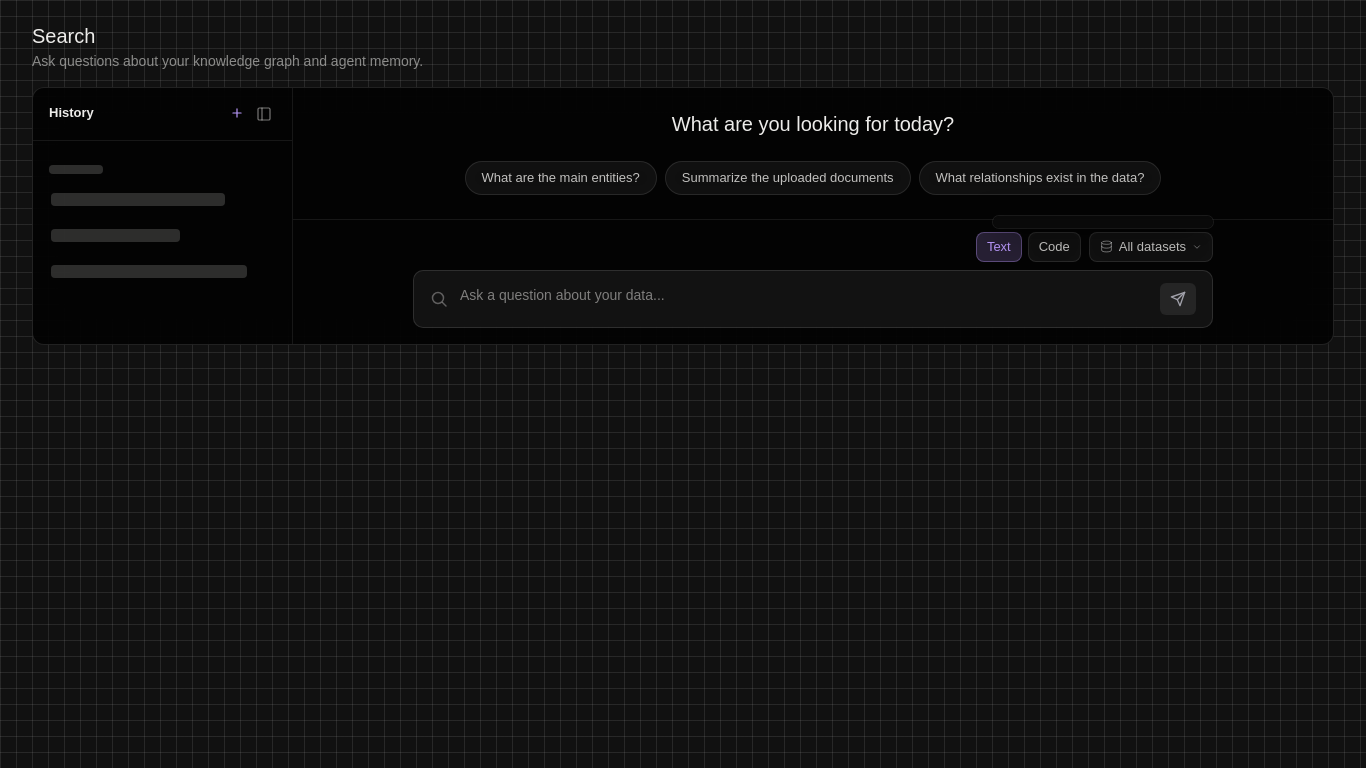
Test: SearchPage › keeps a follow-up sent under a remembered session before its history has loaded
Type "and how many edges?" into the text box with placeholder "Ask a question about your data..." at x=804, y=299, box [460,287,1148,311]
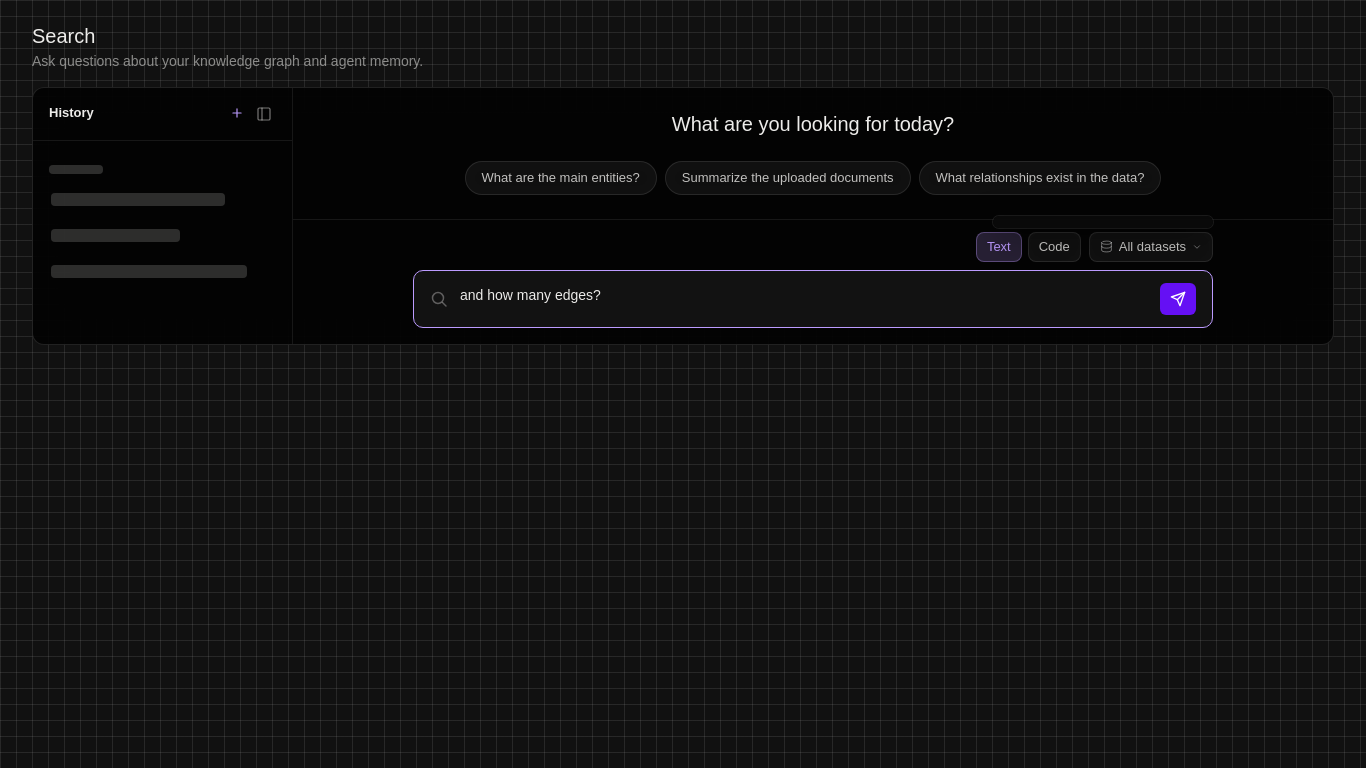
Click the 7th button at x=1178, y=299, box [1160,283,1196,315]
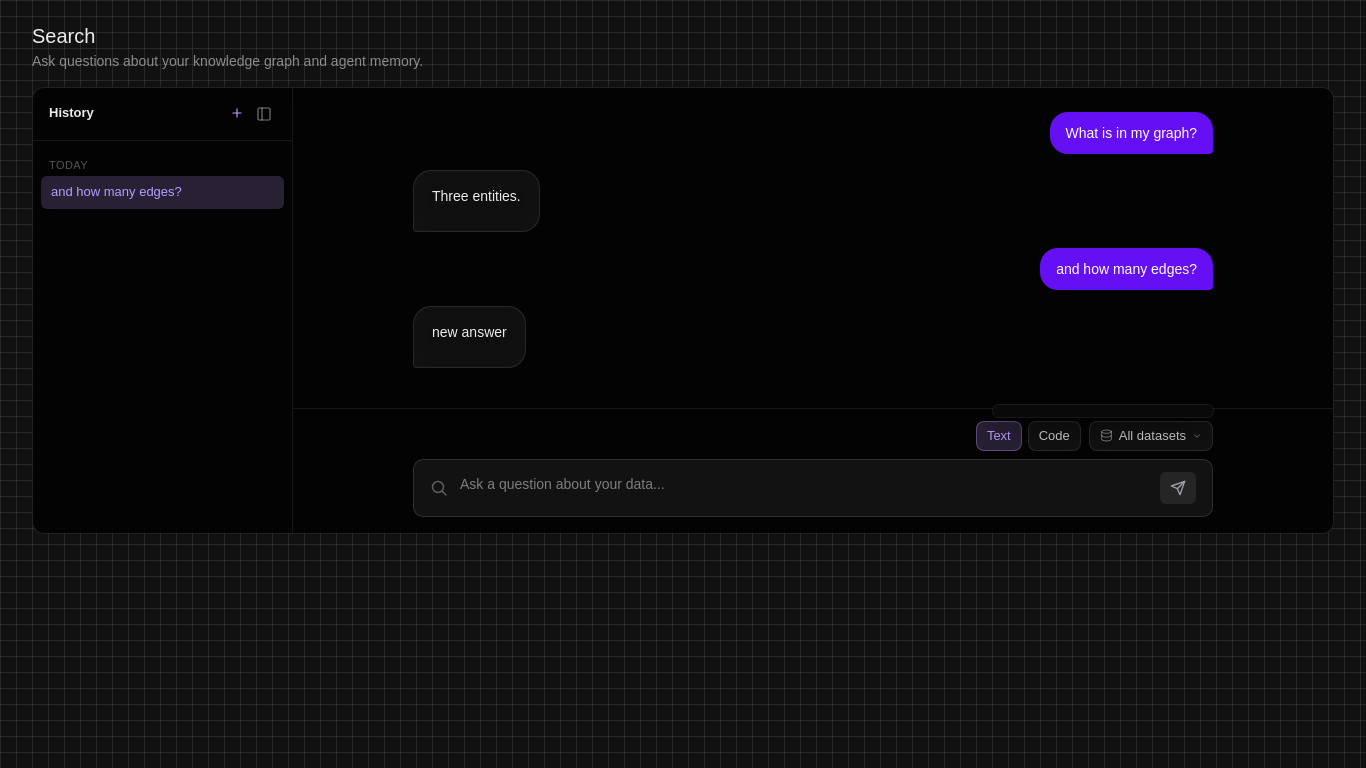
Expected: the element with test id "assistant-message" reads "new answer", [432,324,507,340]
Expected: the elements with test id "assistant-message" read "Three entities.", "new answer", in this order, [413,170,540,232]; [413,306,526,368]
